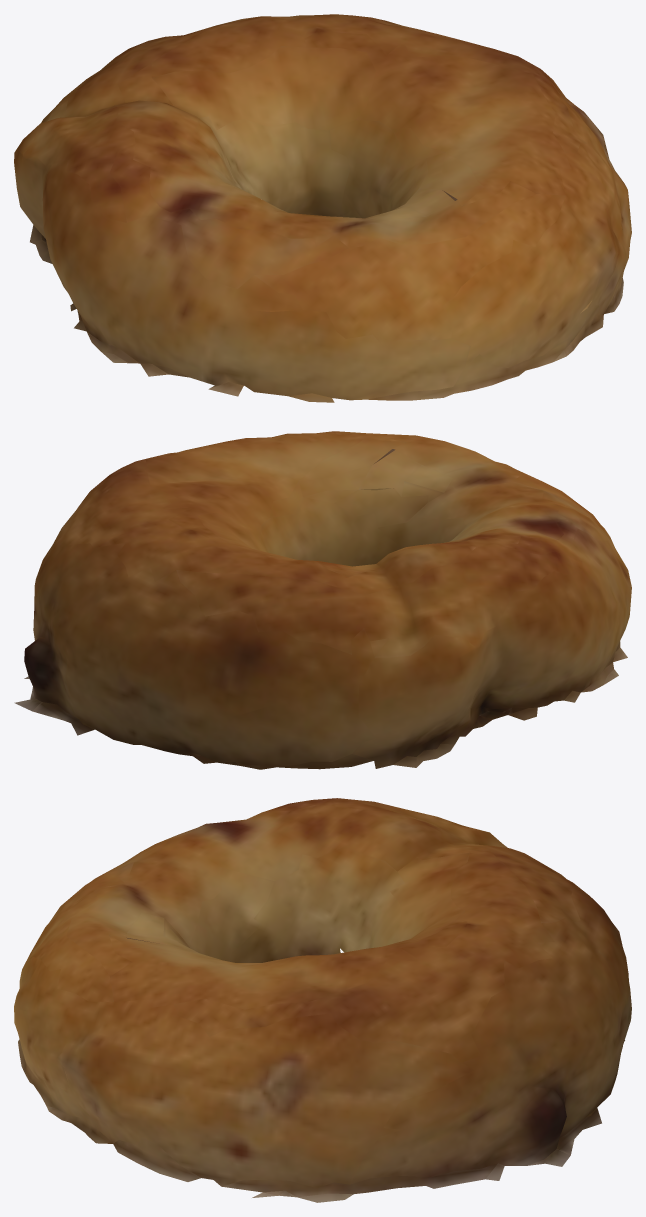
3 renders of one model, top to bottom at view 1: azimuth 30°, elevation 25°; view 2: azimuth 150°, elevation 25°; view 3: azimuth 270°, elevation 25°, orthographic. The views are drawn at different scales.
Visible parts, largest first — view 1: Object_2; view 2: Object_2; view 3: Object_2.
Part boxes in pixels (<box>): Object_2: <box>14,14,631,402</box>; Object_2: <box>14,431,631,769</box>; Object_2: <box>14,798,631,1202</box>.
Bounding box in the file's own units: 1.58 × 0.5193 × 1.59.
1 material, 1 textured.
